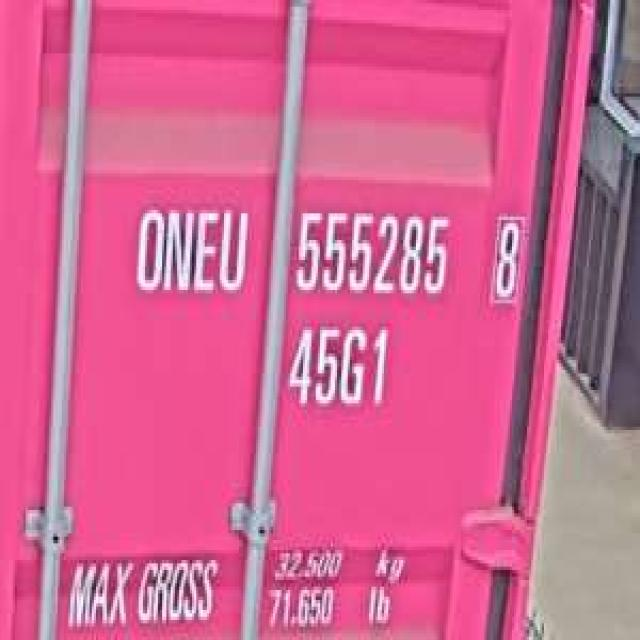dv: (488, 210, 522, 303)
owner: (128, 197, 252, 303)
serial: (290, 200, 455, 307)
size: (284, 317, 392, 413)
